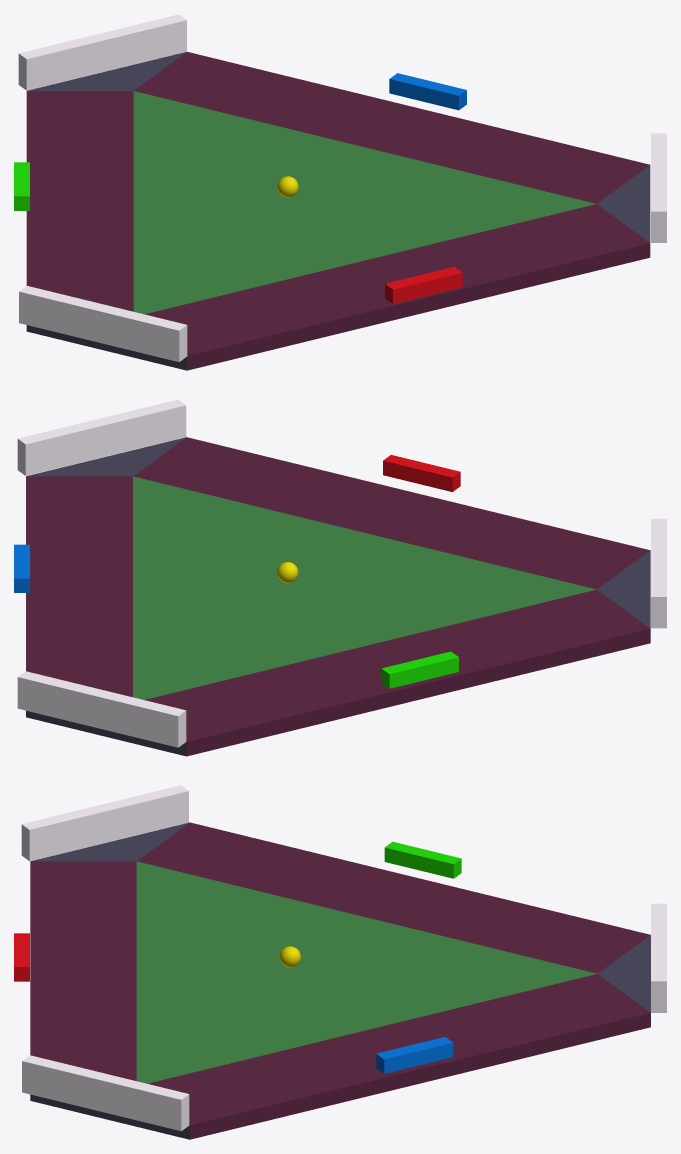
The model's file is pong3p.glb.
3 renders of one model, top to bottom at view 1: azimuth 30°, elevation 25°; view 2: azimuth 150°, elevation 25°; view 3: azimuth 270°, elevation 25°, orthographic.
Parts seen in each view (by area): view 1: court, boundary1.003, boundary1.002, boundary1.001, paddle2, paddle1, paddle3; view 2: court, boundary1.001, boundary1.003, boundary1.002, paddle3, paddle1, paddle2; view 3: court, boundary1.001, boundary1.002, boundary1.003, paddle3, paddle2, paddle1.
Boxes of the visible parts, left/top/right/bottom form: court: left=26, top=52, right=650, bottom=370; boundary1.003: left=18, top=14, right=186, bottom=90; boundary1.002: left=19, top=286, right=187, bottom=361; boundary1.001: left=651, top=133, right=666, bottom=242; paddle2: left=389, top=73, right=466, bottom=110; paddle1: left=385, top=267, right=462, bottom=303; paddle3: left=14, top=162, right=29, bottom=210; court: left=26, top=437, right=650, bottom=756; boundary1.001: left=17, top=399, right=186, bottom=475; boundary1.003: left=17, top=671, right=186, bottom=747; boundary1.002: left=651, top=518, right=666, bottom=628; paddle3: left=381, top=651, right=458, bottom=688; paddle1: left=383, top=455, right=460, bottom=491; paddle2: left=14, top=544, right=29, bottom=592; court: left=30, top=822, right=650, bottom=1139; boundary1.001: left=22, top=1055, right=189, bottom=1131; boundary1.002: left=21, top=785, right=188, bottom=861; boundary1.003: left=651, top=903, right=666, bottom=1012; paddle3: left=384, top=841, right=461, bottom=878; paddle2: left=376, top=1037, right=453, bottom=1073; paddle1: left=14, top=933, right=29, bottom=981.
Bounding box in the file's own units: 13.99 × 0.95 × 12.27.
